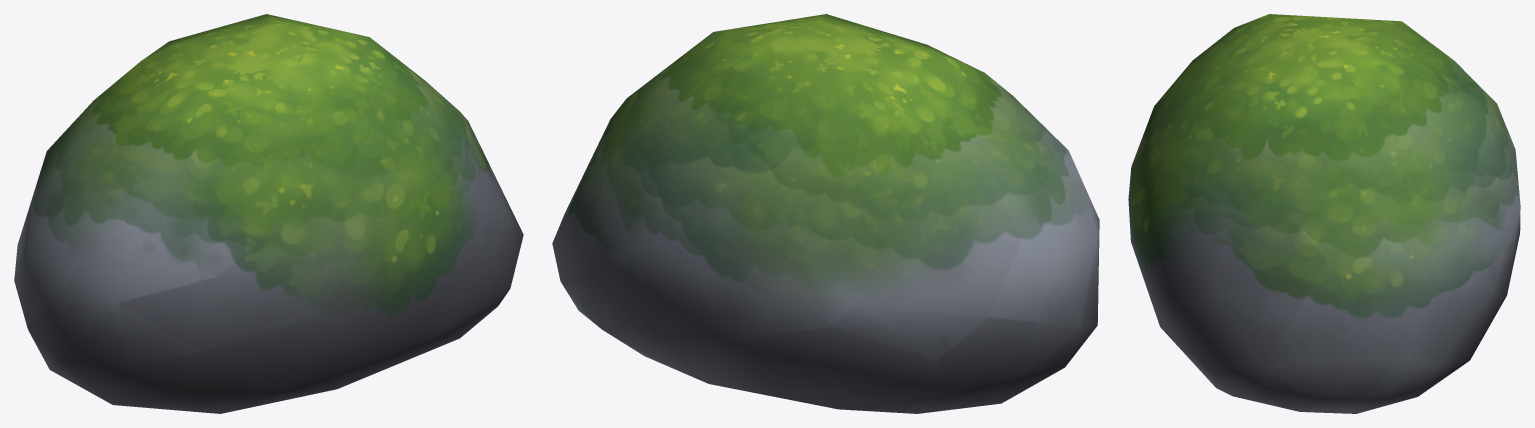
The model's file is MossStoneBig.fbx.
3 renders of one model, left to right at view 1: azimuth 30°, elevation 25°; view 2: azimuth 150°, elevation 25°; view 3: azimuth 270°, elevation 25°, orthographic. The views are drawn at different scales.
Visible parts, largest first — view 1: Icosphere; view 2: Icosphere; view 3: Icosphere.
Boxes of the visible parts, x1,y1,x2,y2 form: Icosphere: (14, 14, 523, 413); Icosphere: (552, 14, 1099, 413); Icosphere: (1128, 14, 1520, 413).
Size of the model in its own units: 481 by 310 by 350.
